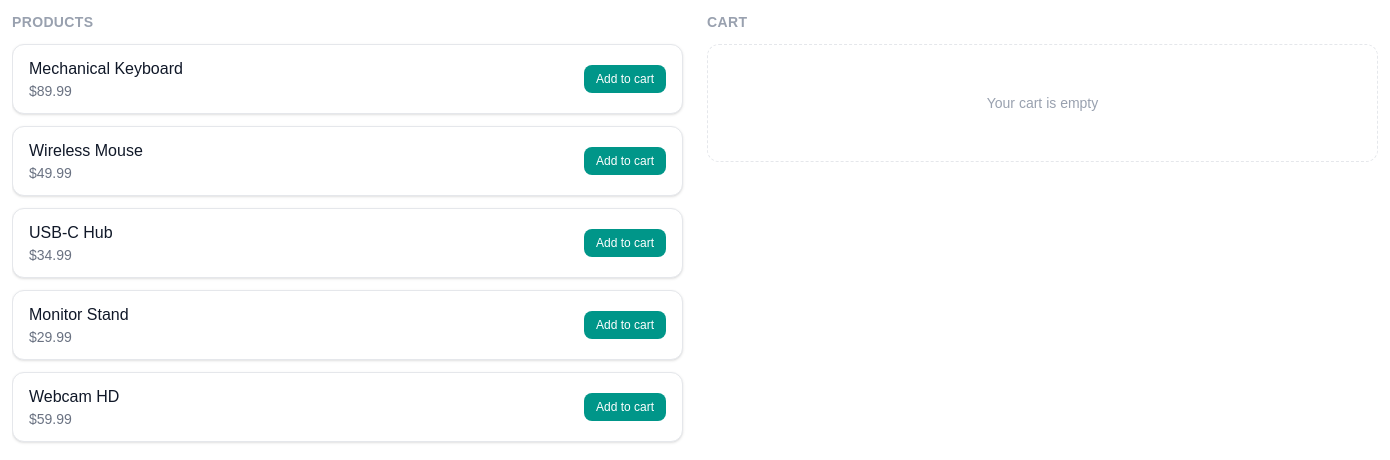
CartDemo (Context) — remove & clear › clears all items when 'Clear all' is clicked
Step 1. Click the button "Add to cart" in the row of "Mechanical Keyboard" → click(625, 79), box [584, 65, 666, 93]
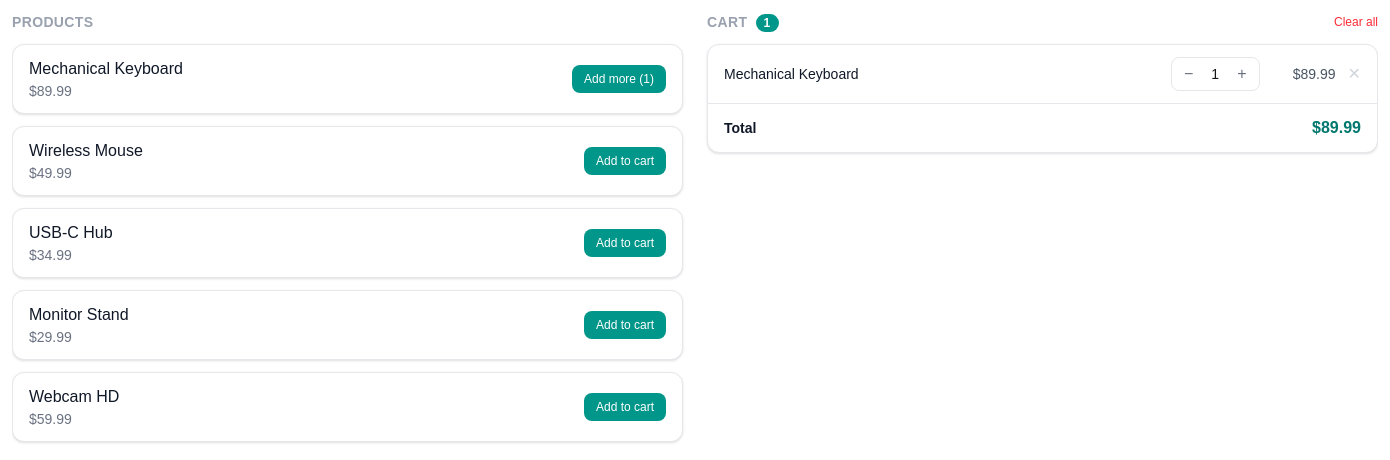
Step 2. Click the button "Add to cart" in the row of "USB-C Hub" → click(625, 243), box [584, 229, 666, 257]
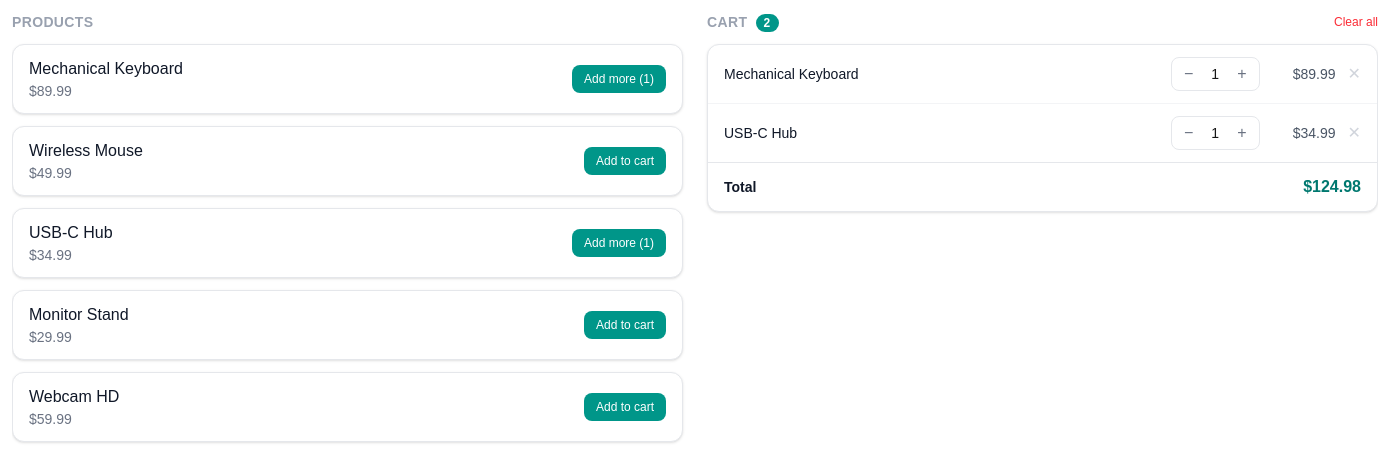
Step 3. Click the button "Clear all" → click(1356, 22), box [1334, 14, 1378, 30]
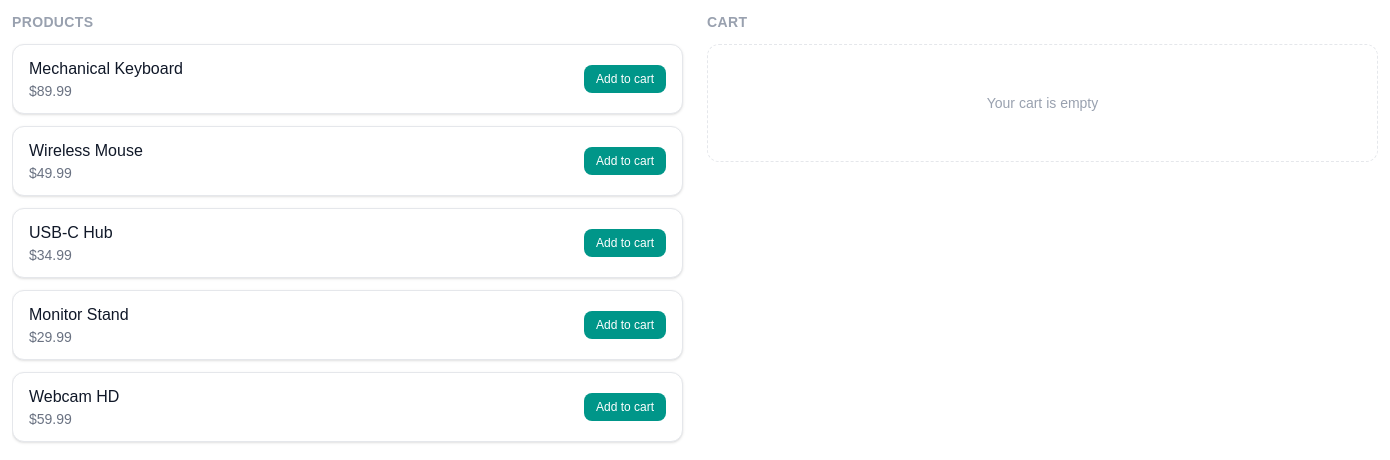
expect the text "Your cart is empty" is shown: met, box [707, 44, 1378, 162]
